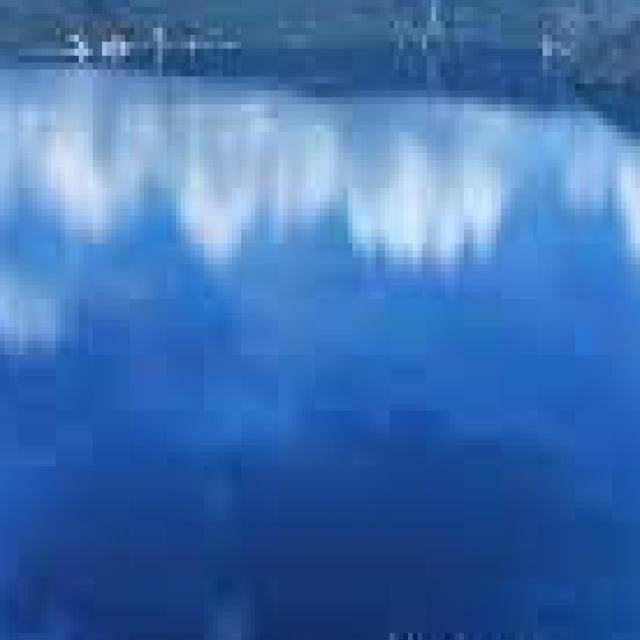-: (0, 77, 640, 619)
